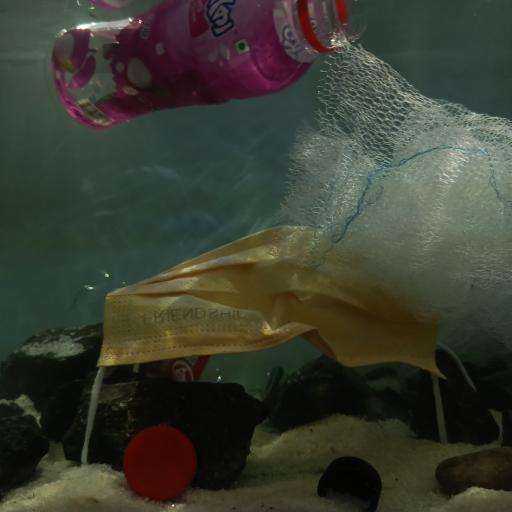bottle_cap: (122, 425, 196, 499)
mask: (90, 223, 463, 399)
net: (265, 20, 512, 353)
plastic_bottle: (46, 0, 364, 133), (68, 264, 290, 394)
